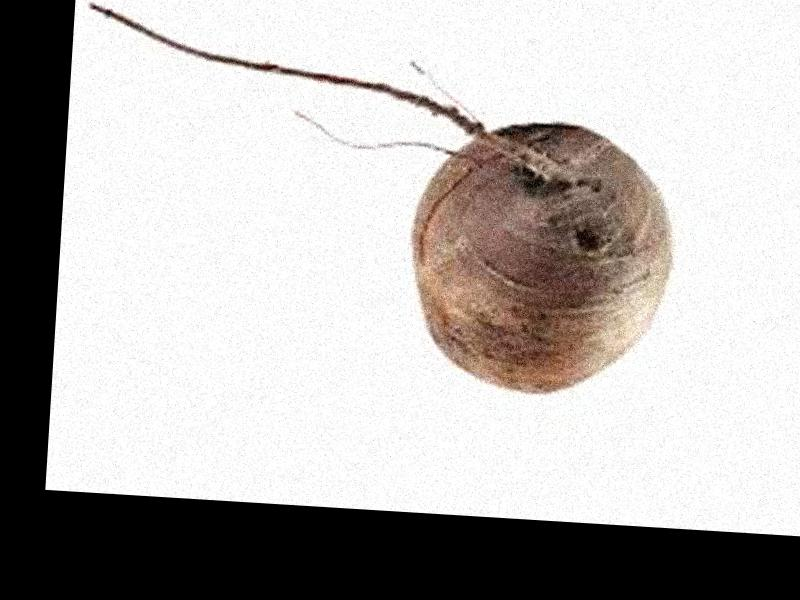Beet: (65, 2, 683, 398)
